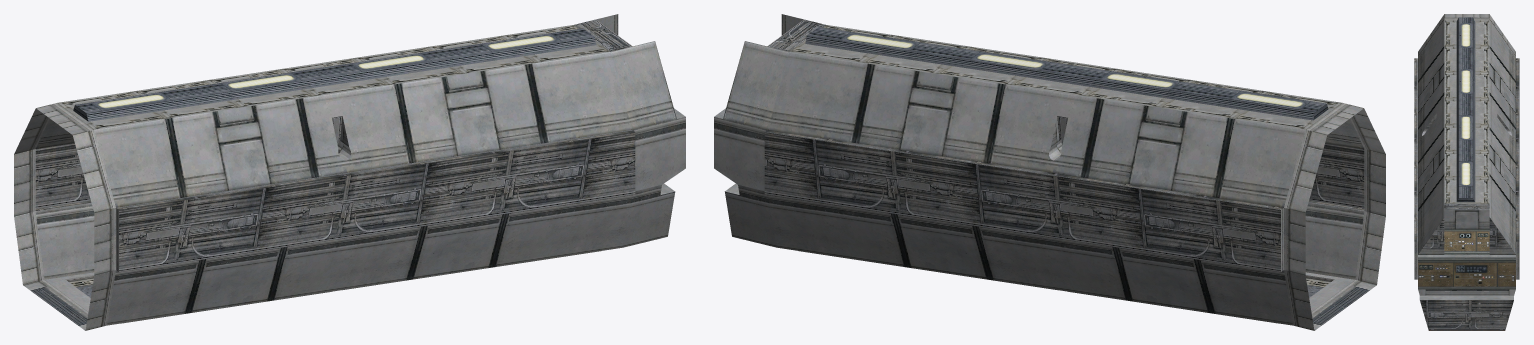
The model's file is ykl37r_r5_hallsb_mesh.fbx.
3 views of the same model, side by side, from view 1: azimuth 30°, elevation 25°; view 2: azimuth 150°, elevation 25°; view 3: azimuth 270°, elevation 25° (orthographic). The views are drawn at different scales.
Parts seen in each view (by area): view 1: mesh_node; view 2: mesh_node; view 3: mesh_node.
Part boxes in pixels (left/top/right/bottom): mesh_node: left=14, top=14, right=685, bottom=330; mesh_node: left=714, top=14, right=1385, bottom=330; mesh_node: left=1414, top=14, right=1519, bottom=330.
Size of the model in its own units: 9.96 by 3.9 by 2.52.
